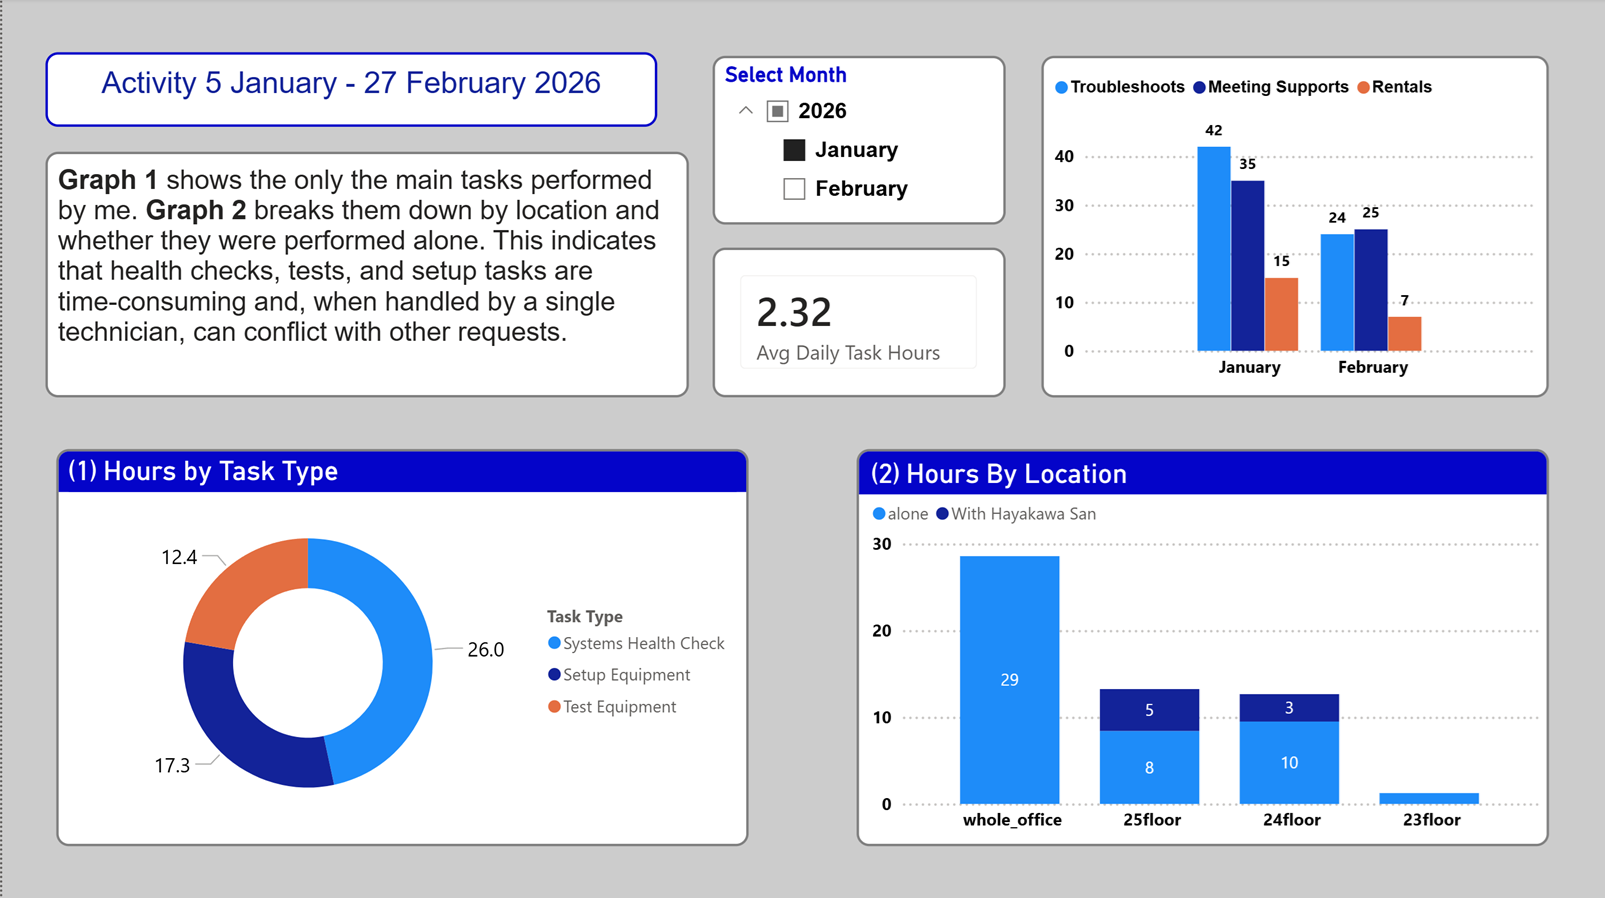

Layout of this report page (visuals, bound fields, positions):
{"tool":"powerbi","page":{"name":"Apostolos Main Tasks","canvas":[1280,720],"ordinal":0},"visuals":[{"type":"textbox","title":"Activity January 2026","box":[34.5,43.1,488.3,59.4],"z":0},{"type":"textbox","box":[34.5,122.5,513.1,196.3],"z":1000},{"type":"donutChart","title":"(1) Hours by Task Type","fields":{"Category":["apostolos_main_activities_2026.task_type"],"Y":["Sum(apostolos_main_activities_2026.Duration Hours)"]},"box":[43,360.3,552.6,317.3],"z":2000},{"type":"clusteredColumnChart","fields":{"Category":["meeting_trouble_rentals_2026.date.Variation.Date Hierarchy.Month"],"Y":["Sum(meeting_trouble_rentals_2026.troubleshoots)","Sum(meeting_trouble_rentals_2026.meeting_supports)","Sum(meeting_trouble_rentals_2026.Rentals)"]},"box":[829.1,46,405,272.8],"z":3000},{"type":"columnChart","title":"(2) Hours By Location","fields":{"Category":["apostolos_main_activities_2026.location"],"Series":["apostolos_main_activities_2026.alone_or_not"],"Y":["Sum(apostolos_main_activities_2026.Duration Hours)"]},"box":[681.5,360.3,552.6,317.3],"z":4000},{"type":"slicer","title":"Select Month","fields":{"Values":["apostolos_main_activities_2026.date.Variation.Date Hierarchy.Year","apostolos_main_activities_2026.date.Variation.Date Hierarchy.Month"]},"box":[566.8,46,233.6,135],"z":5000},{"type":"cardVisual","fields":{"Data":["apostolos_main_activities_2026.Avg Daily Task Hours"]},"box":[566.8,199.1,233.6,119.7],"z":6000}]}

Visuals, with their boxes in screenshot pixels (x1, y1, x2, y2), scaled from the page's 1280x720 canvas onto the 1605x898 screenshot:
"Activity January 2026" textbox: left=43, top=54, right=656, bottom=128
textbox: left=43, top=153, right=687, bottom=398
"(1) Hours by Task Type" donutChart: left=54, top=449, right=747, bottom=845
clusteredColumnChart - meeting_trouble_rentals_2026.date.Variation.Date Hierarchy.Month x Sum(meeting_trouble_rentals_2026.troubleshoots): left=1040, top=57, right=1547, bottom=398
"(2) Hours By Location" columnChart: left=855, top=449, right=1547, bottom=845
"Select Month" slicer: left=711, top=57, right=1004, bottom=226
cardVisual - apostolos_main_activities_2026.Avg Daily Task Hours: left=711, top=248, right=1004, bottom=398
